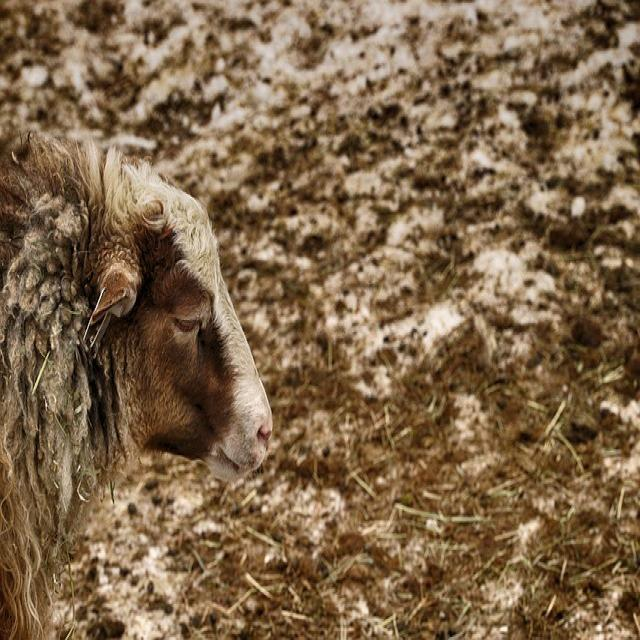sheep: (0, 127, 273, 638)
